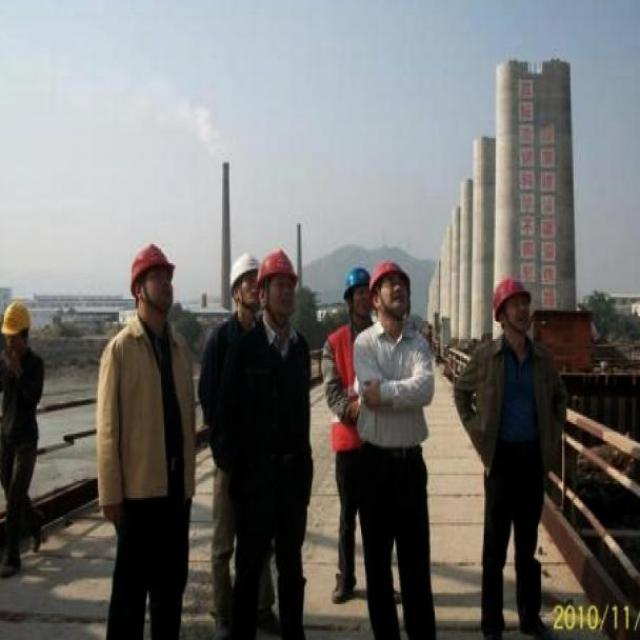helmet: (226, 239, 308, 333), (335, 250, 421, 333), (123, 231, 185, 322), (478, 267, 534, 335)
